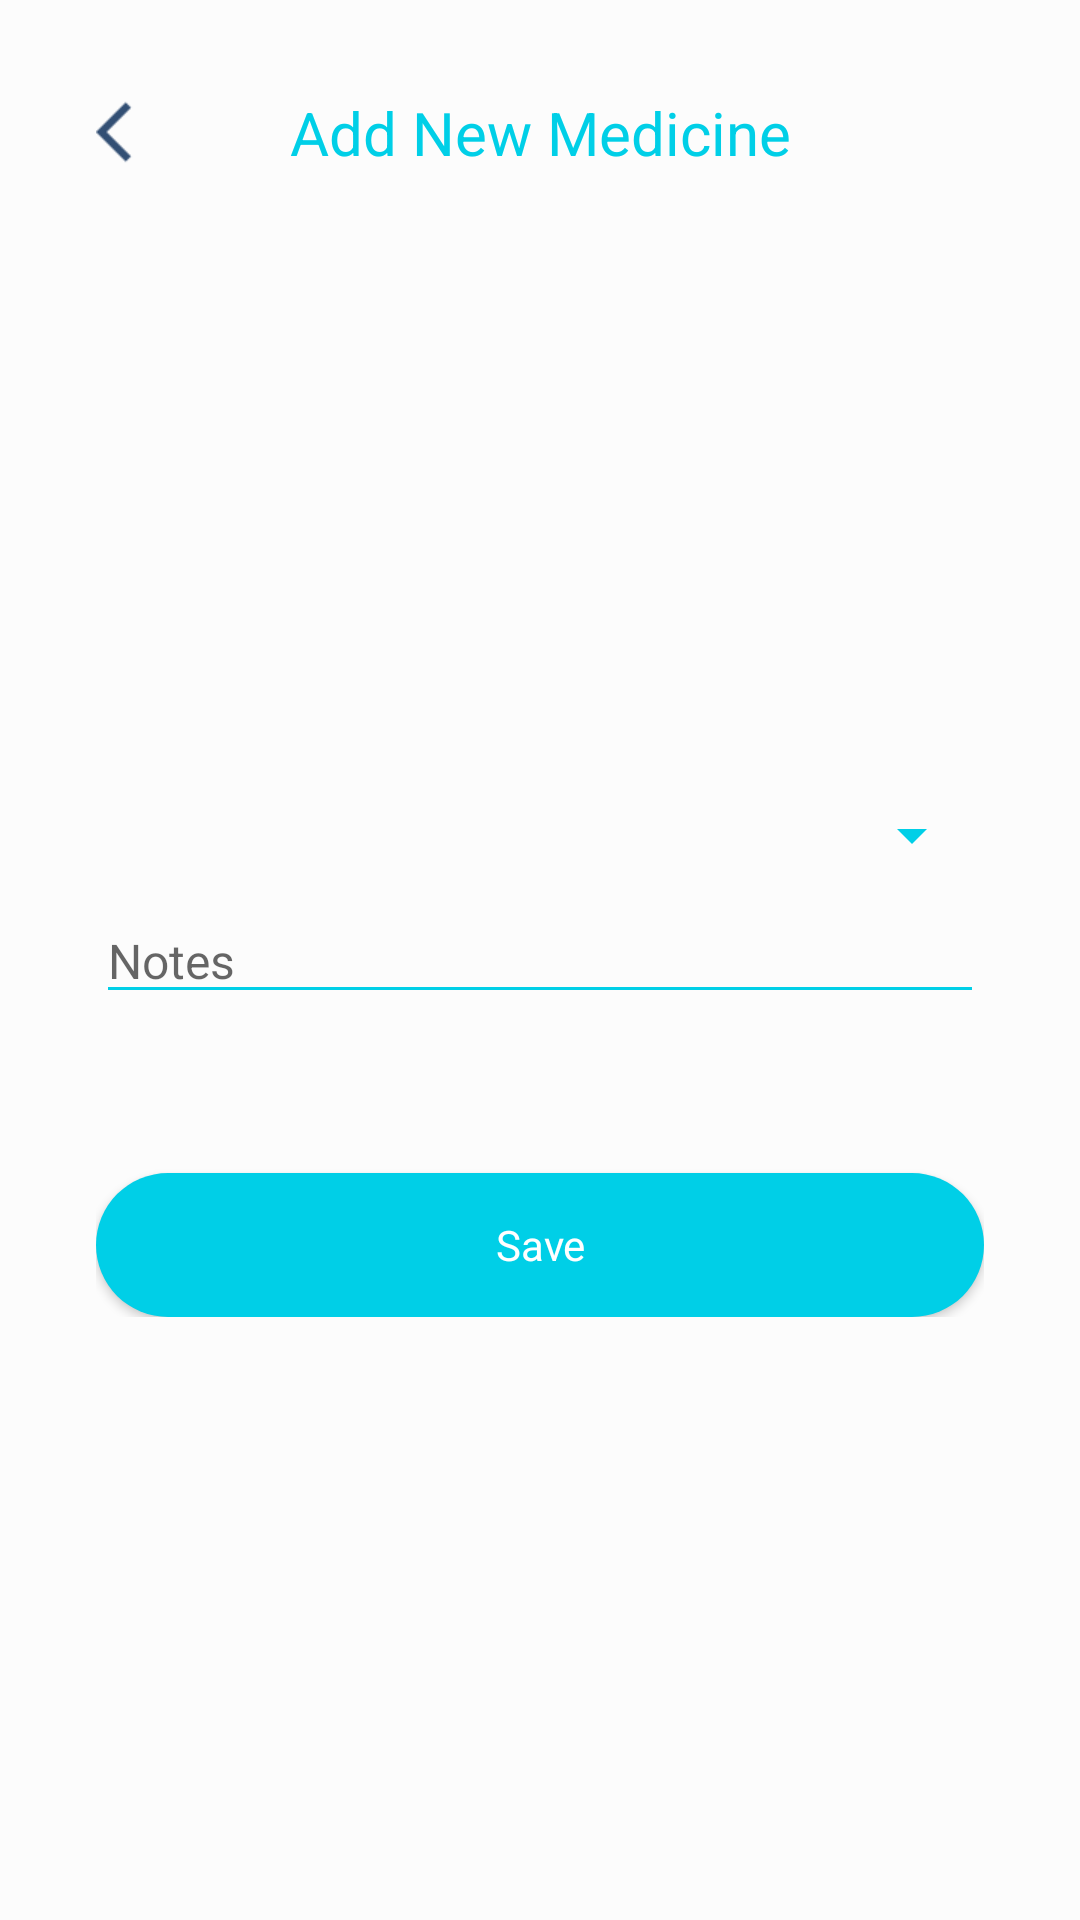

Where icons sit on this 1080px x 1920px app screen, as (x1, y1, x2, y2):
back: (96, 102, 131, 162)
